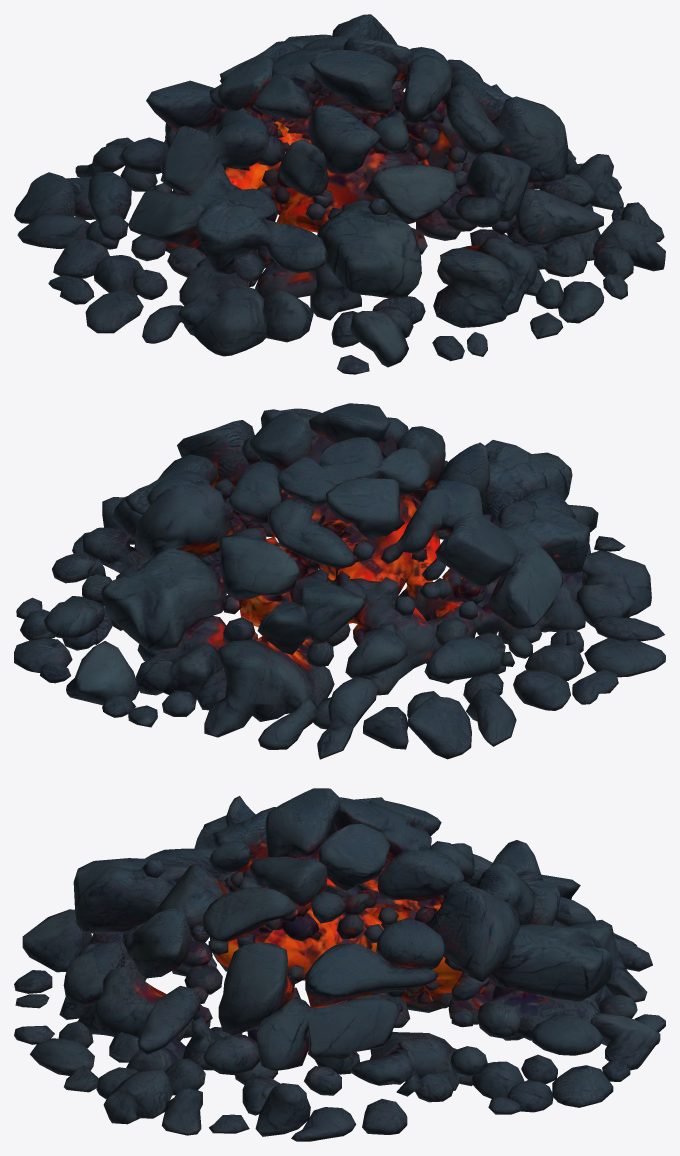
File: kit-rubble.glb
3 renders of one model, top to bottom at view 1: azimuth 30°, elevation 25°; view 2: azimuth 150°, elevation 25°; view 3: azimuth 270°, elevation 25°, orthographic. The views are drawn at different scales.
Size of the model in its own units: 1.83 by 0.6419 by 1.8.
1 material, 1 textured.
